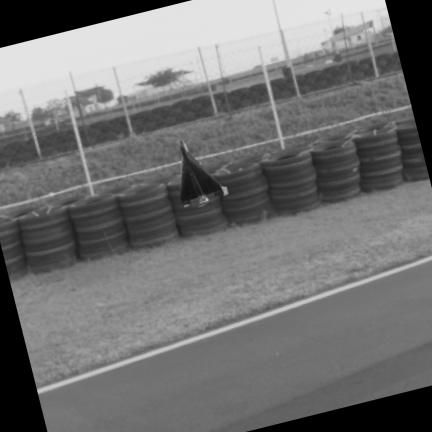Shahed: (179, 140, 227, 206)
